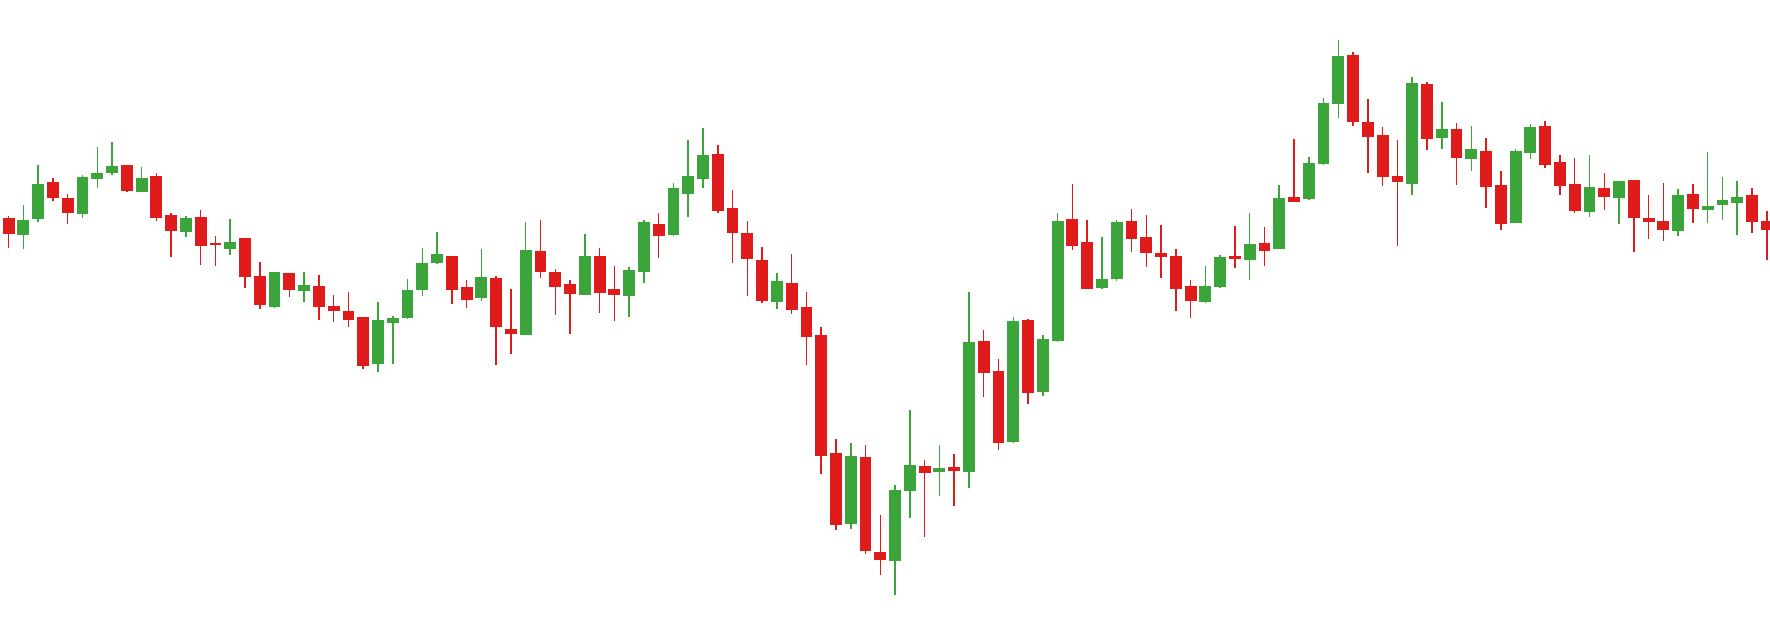buy: (1081, 229, 1210, 322)
